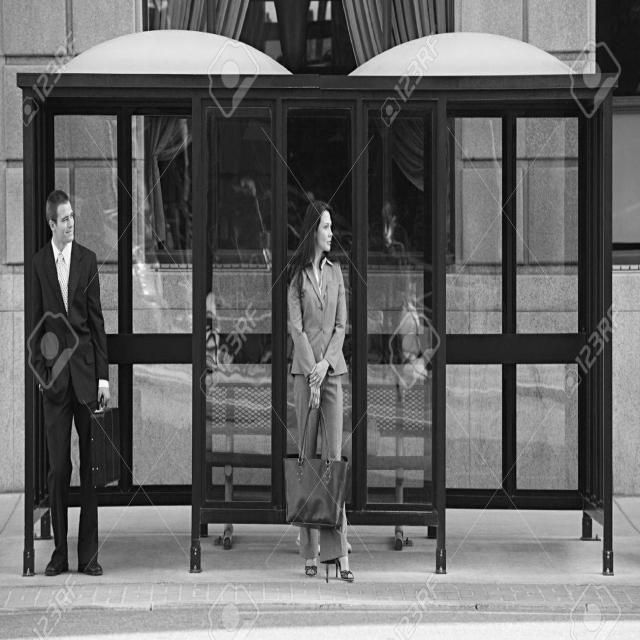person: (24, 176, 130, 583), (279, 177, 366, 586)
